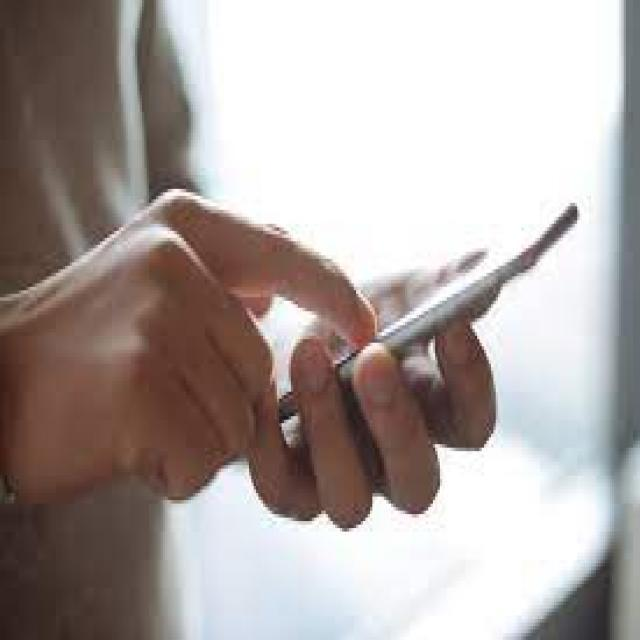Phone: (270, 192, 582, 428)
